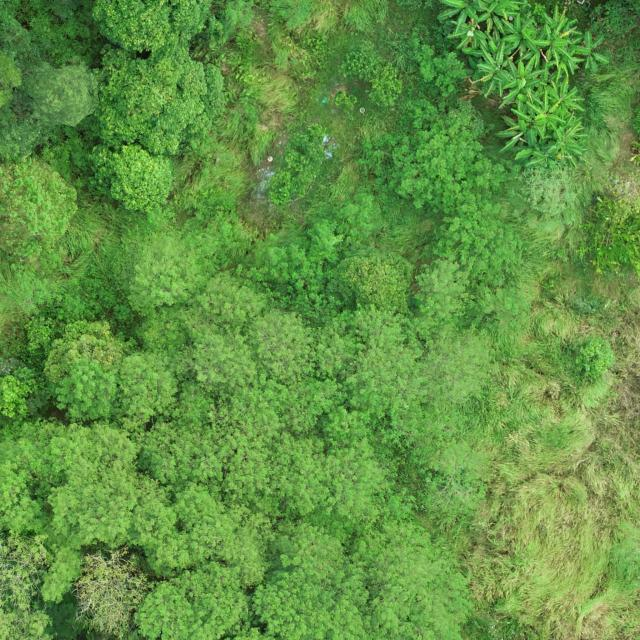Tree: (371, 96, 521, 215), (132, 471, 272, 589), (348, 513, 476, 640), (92, 44, 227, 158), (310, 404, 418, 546), (251, 517, 371, 640), (43, 417, 142, 552), (313, 303, 421, 419), (220, 429, 359, 518), (137, 379, 241, 483), (132, 559, 251, 640), (208, 375, 348, 442), (43, 316, 126, 426), (0, 156, 78, 255), (430, 202, 520, 284), (71, 546, 151, 634), (91, 0, 216, 56), (176, 310, 258, 393), (90, 143, 174, 214), (21, 56, 101, 128), (0, 532, 53, 640), (574, 195, 640, 278), (248, 307, 316, 384), (118, 350, 181, 433), (196, 263, 271, 327), (547, 113, 590, 170), (473, 39, 513, 100), (498, 54, 545, 104), (496, 106, 543, 155), (525, 88, 567, 140), (495, 14, 540, 56), (514, 130, 562, 168), (568, 32, 610, 74), (546, 76, 586, 118), (541, 49, 587, 84), (544, 4, 583, 45), (535, 24, 571, 62), (446, 19, 487, 52), (436, 0, 491, 24), (469, 0, 528, 18)
